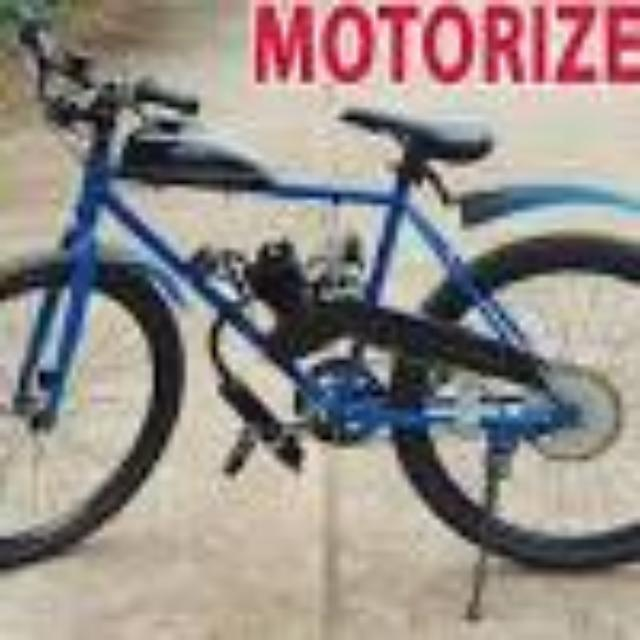obstacle: (0, 4, 640, 638)
